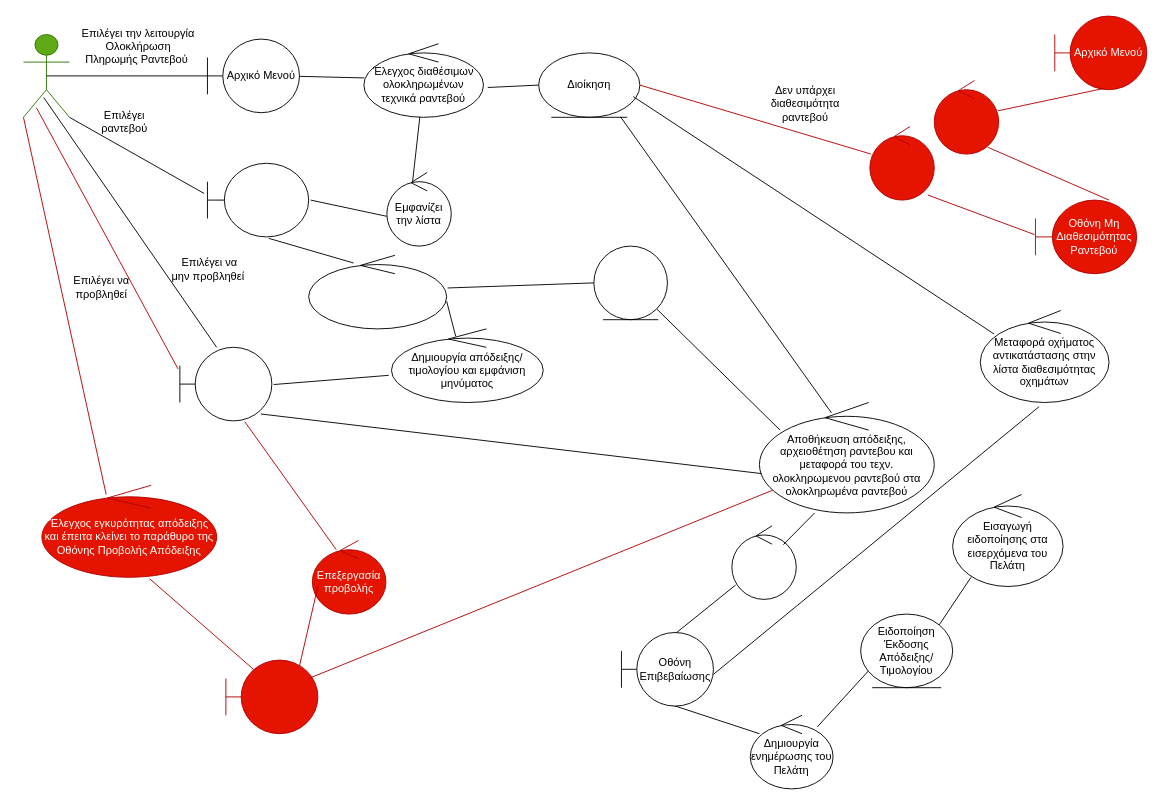
Some shapes in this 1163 by 805 pixel diagram are drawn without their labels. Each missing label, with the centre of its shape:
"Εμφάνιση μηνυματος" belongs at [763,562].
"Εμφάνιση μηνύματος" belongs at [901,163].
"Επιστρέφει τον πελάτη πίσω" belongs at [966,117].
"Λίστα Ολοκληρωμένων Ραντεβού" belongs at [258,199].
"Οθόνη Ερωτήματος για Προβολή Απόδειξης" belongs at [225,383].
"Οθόνη Προβολής Απόδειξης" belongs at [271,696].
"Ραντεβού" belongs at [630,282].
"Υπολογισμός τελικού ποσού του ραντεβού (εργασια + ανταλλακτικά)" belongs at [377,291].
